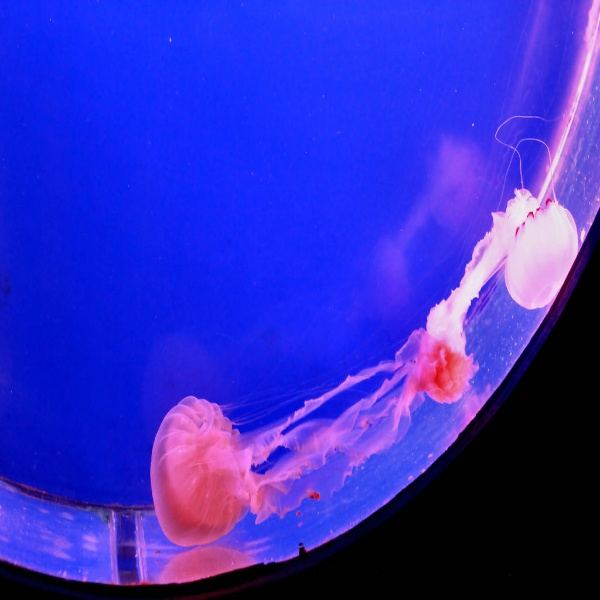Jellyfish: (169, 297, 538, 569), (421, 110, 578, 325)
